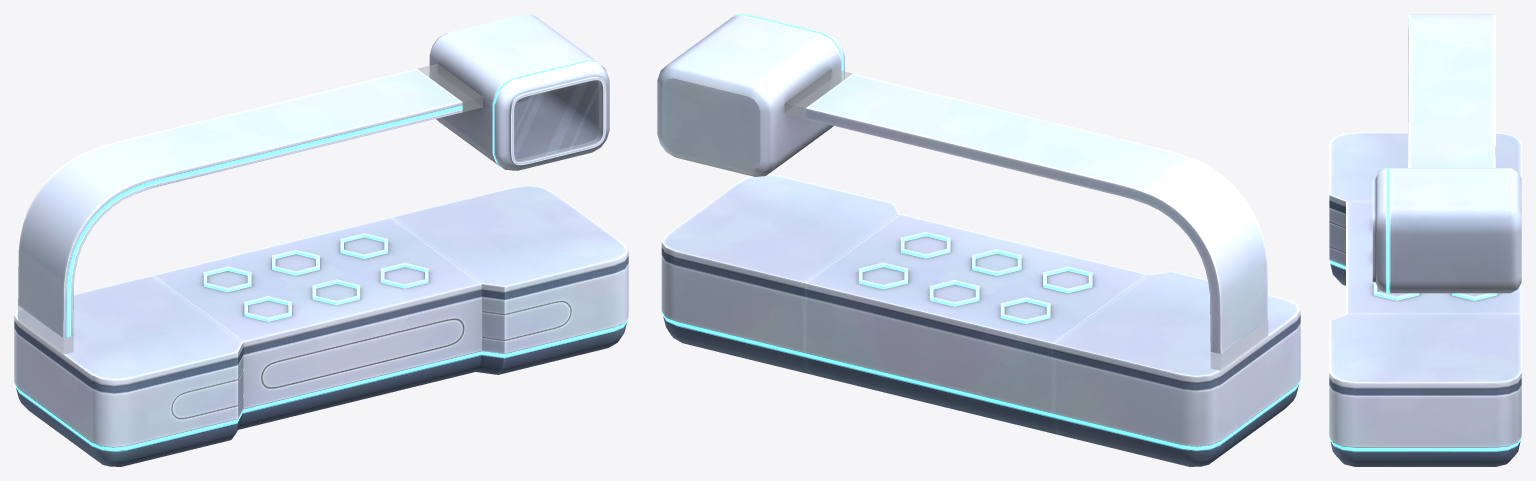
Rendered from obj_kitchen.gltf.
3 renders of one model, left to right at view 1: azimuth 30°, elevation 25°; view 2: azimuth 150°, elevation 25°; view 3: azimuth 270°, elevation 25°, orthographic. The views are drawn at different scales.
Parts seen in each view (by area): view 1: obj_kitchen; view 2: obj_kitchen; view 3: obj_kitchen.
Part boxes in pixels (x1,y1,x2,y2): obj_kitchen: (14, 14, 628, 466); obj_kitchen: (657, 14, 1300, 466); obj_kitchen: (1329, 14, 1521, 466).
Size of what is drawn, in the model's own units: 5.4 by 2.64 by 1.75.
2 materials, 2 textured.
